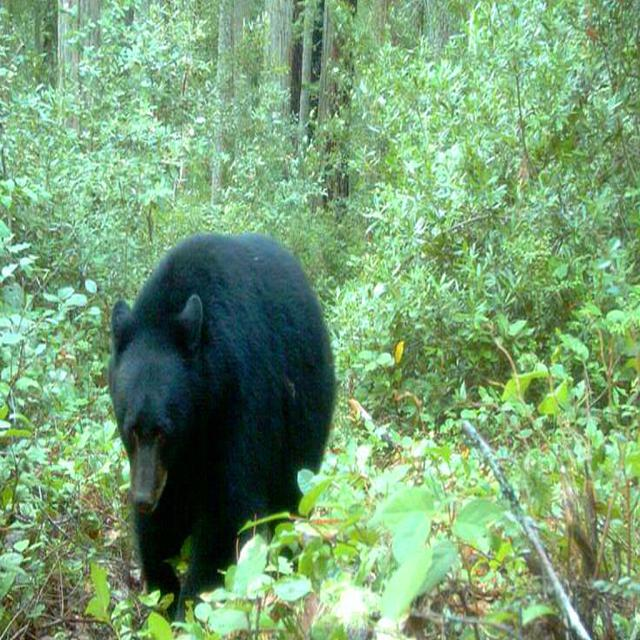Buffalo: (107, 228, 335, 630)
